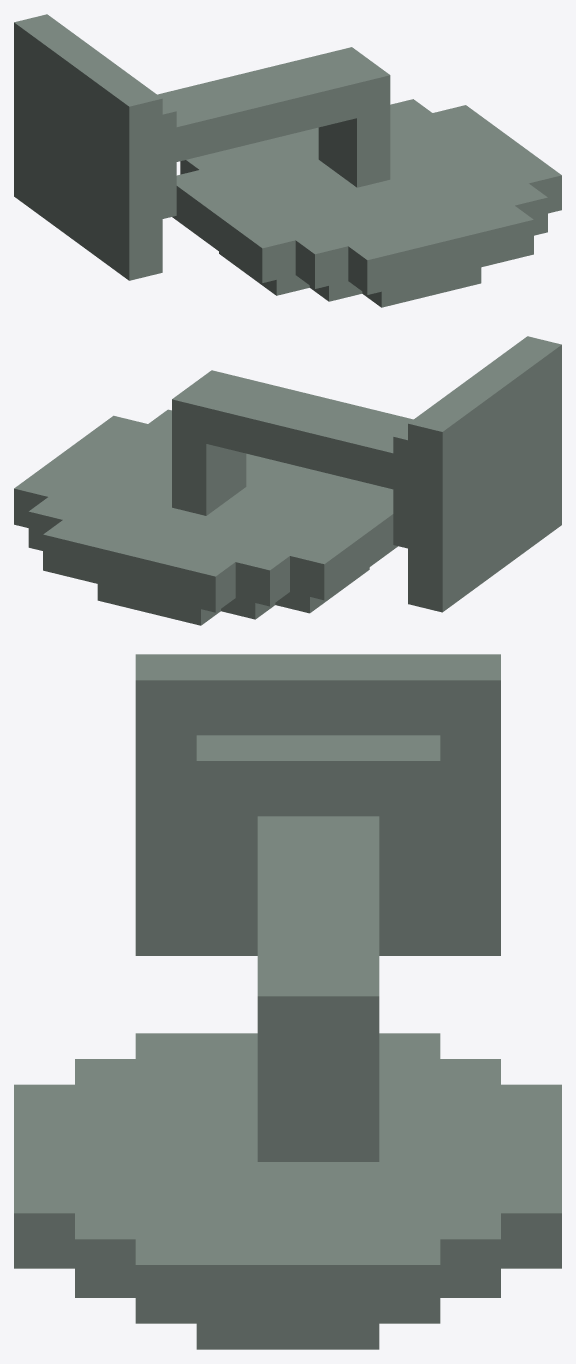
Rendered from Pomeau de douche.obj.
3 renders of one model, top to bottom at view 1: azimuth 30°, elevation 25°; view 2: azimuth 150°, elevation 25°; view 3: azimuth 270°, elevation 25°, orthographic. The views are drawn at different scales.
Visible parts, largest first — view 1: Pomeau de douche; view 2: Pomeau de douche; view 3: Pomeau de douche.
Part boxes in pixels (x1,y1,x2,y2): Pomeau de douche: (14, 14, 561, 307); Pomeau de douche: (14, 336, 561, 625); Pomeau de douche: (14, 654, 561, 1349).
Bounding box in the file's own units: 13 × 7 × 9.
Materials: 1 (1 with a texture image).
